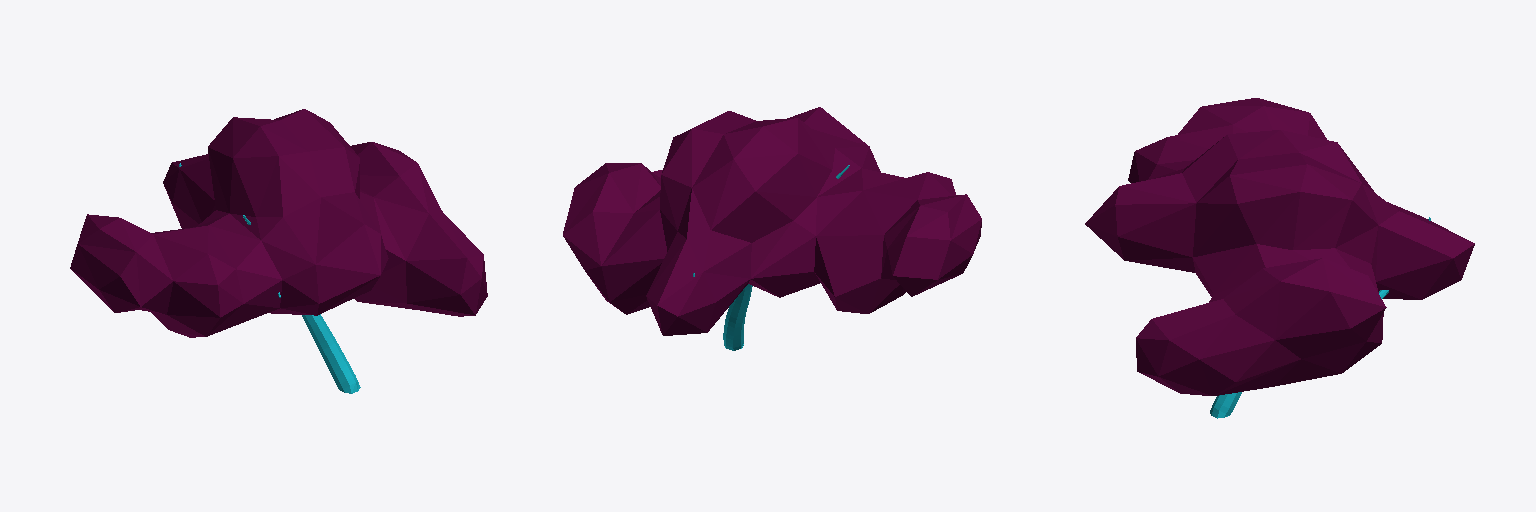
File: arbre2.obj
3 views of the same model, side by side, from view 1: azimuth 30°, elevation 25°; view 2: azimuth 150°, elevation 25°; view 3: azimuth 270°, elevation 25° (orthographic).
Visible parts, largest first — view 1: Mball.019_Mesh, Cube; view 2: Mball.019_Mesh, Cube; view 3: Mball.019_Mesh, Cube.
Boxes of the visible parts, box(x1,y1,x2,y2) form: Mball.019_Mesh: box(70, 109, 487, 337); Cube: box(179, 163, 360, 393); Mball.019_Mesh: box(563, 107, 981, 335); Cube: box(693, 165, 849, 350); Mball.019_Mesh: box(1085, 98, 1474, 395); Cube: box(1210, 217, 1430, 418).
Bounding box in the file's own units: 11.65 × 7.89 × 10.87.